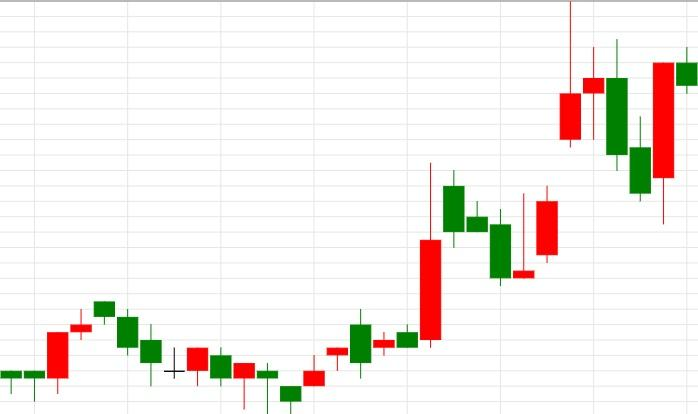evening_star_fall: (513, 1, 628, 278)
morning_star_rise: (443, 171, 558, 286)
